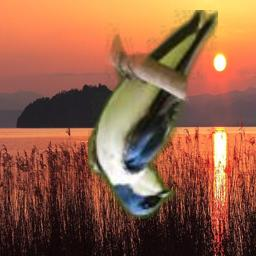Swallow: (88, 10, 218, 219)
